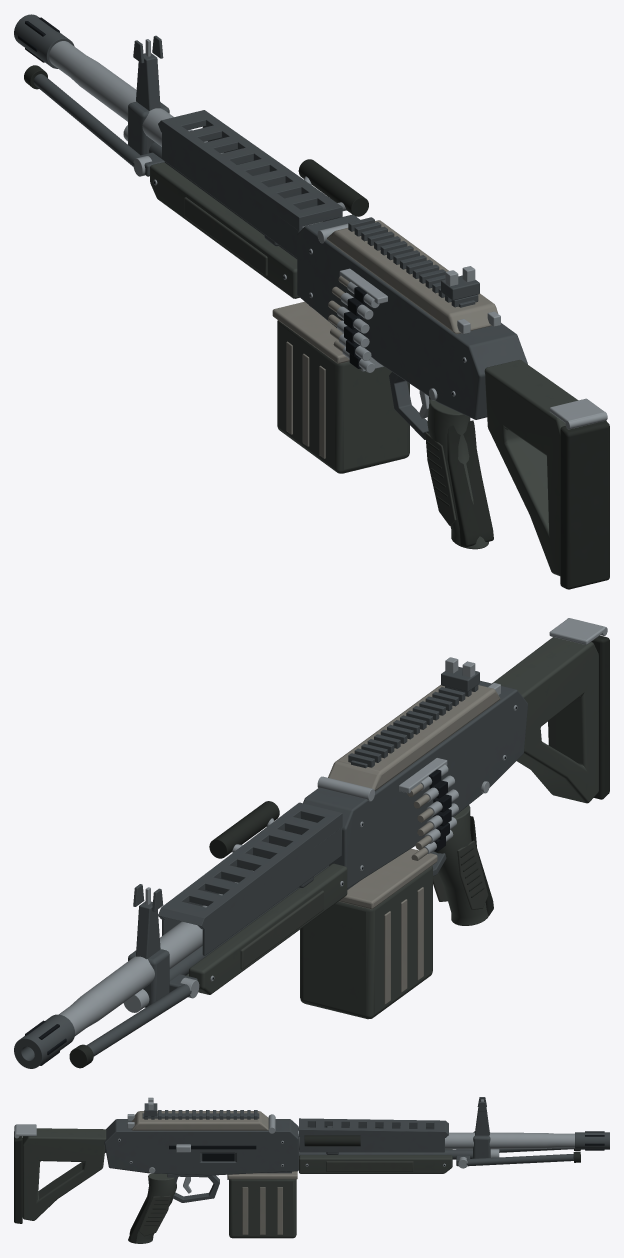
The model's file is lmg.glb.
3 views of the same model, one above another, from view 1: azimuth 30°, elevation 25°; view 2: azimuth 150°, elevation 25°; view 3: azimuth 270°, elevation 25° (orthographic). The views are drawn at different scales.
Parts seen in each view (by area): view 1: Lmg_Static_Treated graphite, Lmg_Receiver, Lmg_Magazine, Lmg_Stock, Lmg_Buttpad, Lmg_Static_Dense rubber, Lmg_Static_Warm grey coating, Lmg_Handguard, Lmg_Static_Machined steel, Lmg_Barrel, Lmg_Static_Grip stipple, Lmg_Grip (+3 smaller); view 2: Lmg_Static_Treated graphite, Lmg_Receiver, Lmg_Magazine, Lmg_Stock, Lmg_Static_Warm grey coating, Lmg_Handguard, Lmg_Barrel, Lmg_Static_Machined steel, Lmg_Static_Grip stipple, Lmg_Static_Dense rubber, Lmg_MagazineLid, Lmg_Grip (+6 smaller); view 3: Lmg_Static_Treated graphite, Lmg_Receiver, Lmg_Stock, Lmg_Magazine, Lmg_Handguard, Lmg_Static_Warm grey coating, Lmg_Barrel, Lmg_Static_Grip stipple, Lmg_Static_Dense rubber, Lmg_Grip, Lmg_Static_Recess shadow, Lmg_Buttpad (+6 smaller).
Boxes of the visible parts, x1,y1,x2,y2 form: Lmg_Static_Treated graphite: (14, 14, 479, 439); Lmg_Receiver: (297, 214, 527, 419); Lmg_Magazine: (277, 320, 409, 473); Lmg_Stock: (484, 360, 578, 575); Lmg_Buttpad: (560, 420, 609, 589); Lmg_Static_Dense rubber: (24, 65, 493, 546); Lmg_Static_Warm grey coating: (326, 220, 498, 351); Lmg_Handguard: (150, 162, 299, 298); Lmg_Static_Machined steel: (123, 39, 500, 400); Lmg_Barrel: (49, 41, 322, 227); Lmg_Static_Grip stipple: (184, 197, 480, 525); Lmg_Grip: (427, 399, 488, 549); Lmg_Static_Treated graphite: (14, 666, 479, 1068); Lmg_Receiver: (303, 680, 527, 888); Lmg_Magazine: (300, 866, 432, 1019); Lmg_Stock: (492, 637, 598, 803); Lmg_Static_Warm grey coating: (328, 685, 500, 860); Lmg_Handguard: (186, 863, 347, 994); Lmg_Barrel: (59, 870, 253, 1036); Lmg_Static_Machined steel: (123, 657, 517, 1012); Lmg_Static_Grip stipple: (240, 840, 488, 969); Lmg_Static_Dense rubber: (69, 801, 493, 1068); Lmg_MagazineLid: (339, 848, 437, 909); Lmg_Grip: (433, 805, 488, 925); Lmg_Static_Treated graphite: (105, 1097, 609, 1202); Lmg_Receiver: (104, 1119, 298, 1175); Lmg_Stock: (22, 1128, 106, 1220); Lmg_Magazine: (229, 1179, 296, 1238); Lmg_Handguard: (299, 1149, 452, 1173); Lmg_Static_Warm grey coating: (131, 1111, 268, 1130); Lmg_Barrel: (298, 1130, 574, 1150); Lmg_Static_Grip stipple: (139, 1161, 413, 1236); Lmg_Static_Dense rubber: (129, 1135, 580, 1243); Lmg_Grip: (128, 1173, 176, 1243); Lmg_Static_Recess shadow: (118, 1131, 604, 1166); Lmg_Buttpad: (14, 1131, 22, 1223).
Size of the model in its own units: 0.1095 by 0.2664 by 1.02.
Materials: 7 (7 with a texture image).
